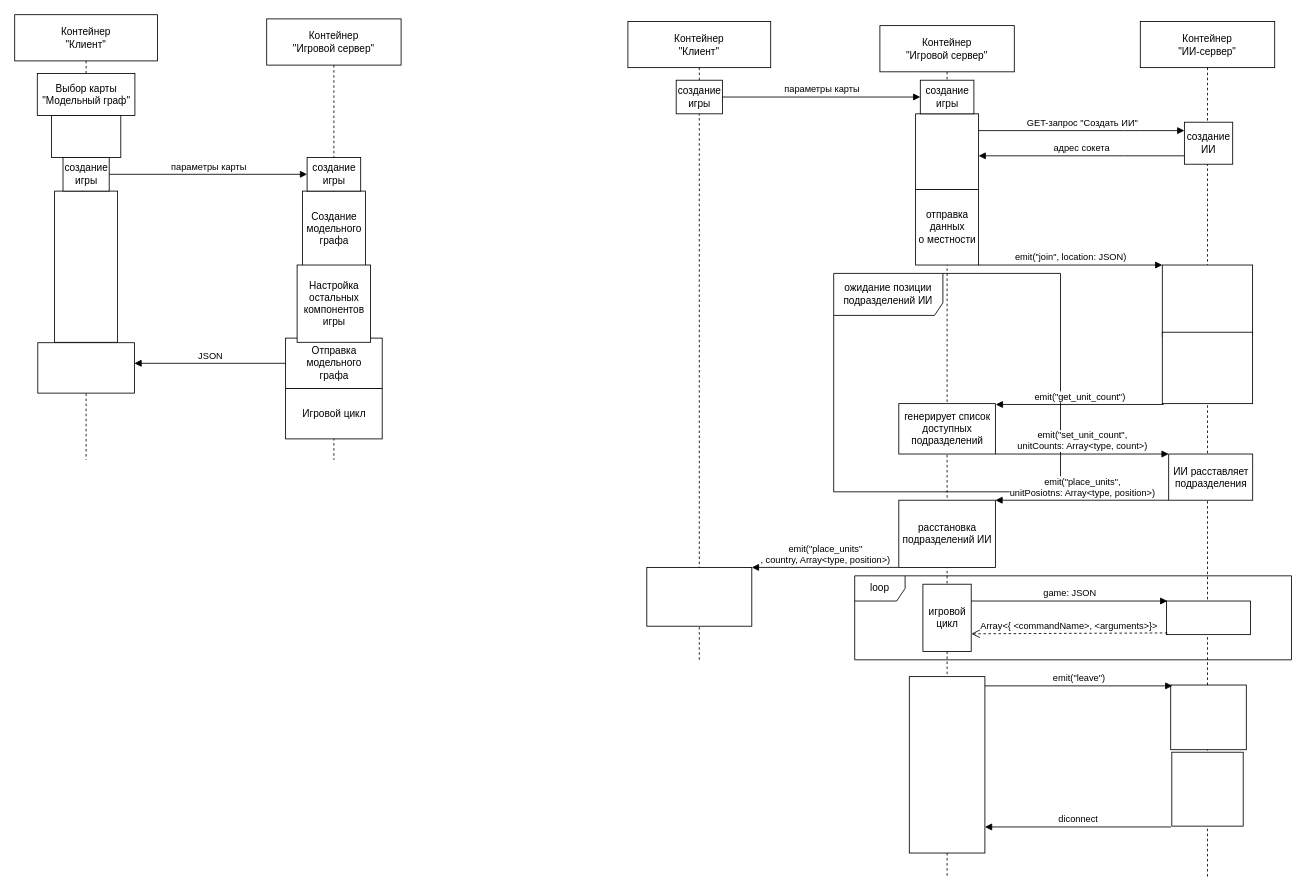
The diagram is 1306 pixels wide and 893 high, and some of its shapes have lost their labels. The shapes that lost their labels are listed below. From the top down, each one's centre as x and y in pixels, then its label:
At point 86,136: "Настройка параметров карты".
At point 947,151: "создание соединения".
At point 86,266: "Ожидание ответа (карты)".
At point 1207,300: "ИИ принимает данные о местности".
At point 85,367: "Отрисовка графа".
At point 1207,367: "ИИ запрашивает список доступных подразделений".
At point 699,596: "расстановка подразделений ИИ на клиенте".
At point 1208,617: "ИИ принимает решение".
At point 1208,717: "удаление ИИ".
At point 946,764: "конец игры и удаление ИИ".
At point 1207,788: "удаление ИИ сокета".
